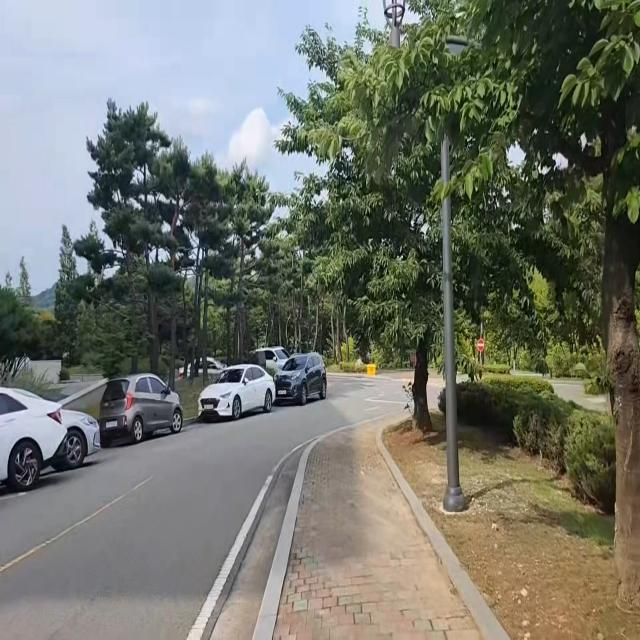obstacle: (438, 107, 468, 513), (0, 381, 72, 502), (98, 367, 186, 457), (196, 356, 279, 430), (251, 344, 334, 410), (52, 406, 104, 477)
road: (0, 398, 411, 640)
sidewalk: (250, 430, 512, 640)
